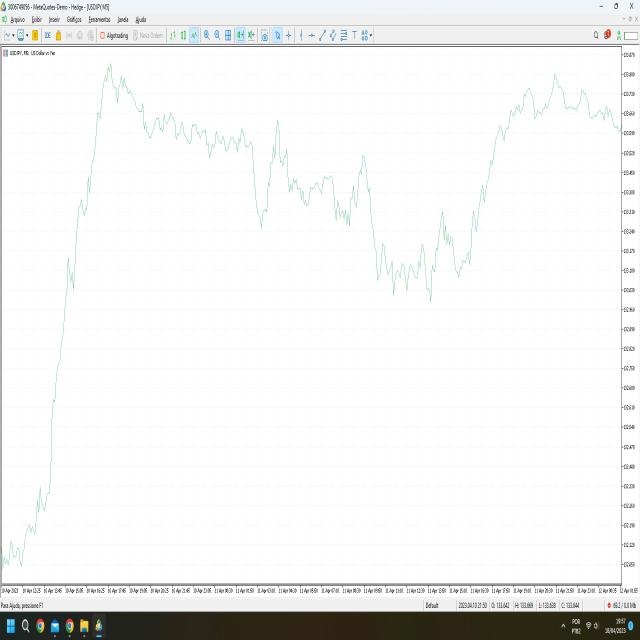bandeira_alta: (51, 247, 82, 403)
oco: (258, 116, 292, 194)
